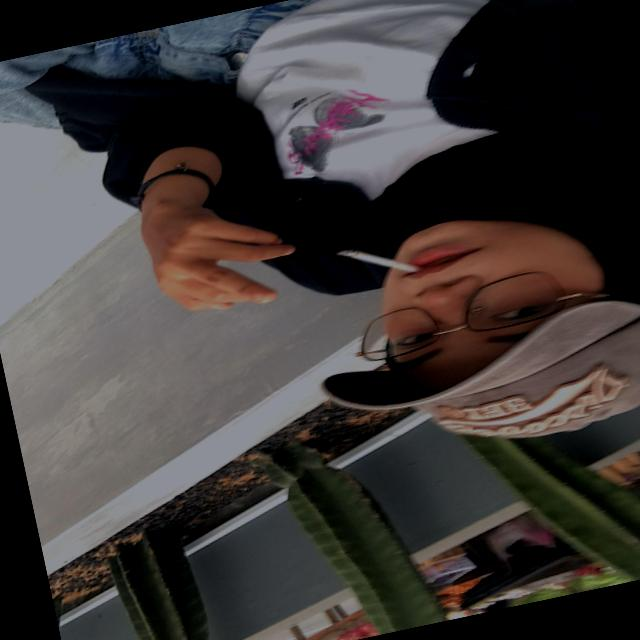smoke: (302, 218, 440, 304)
